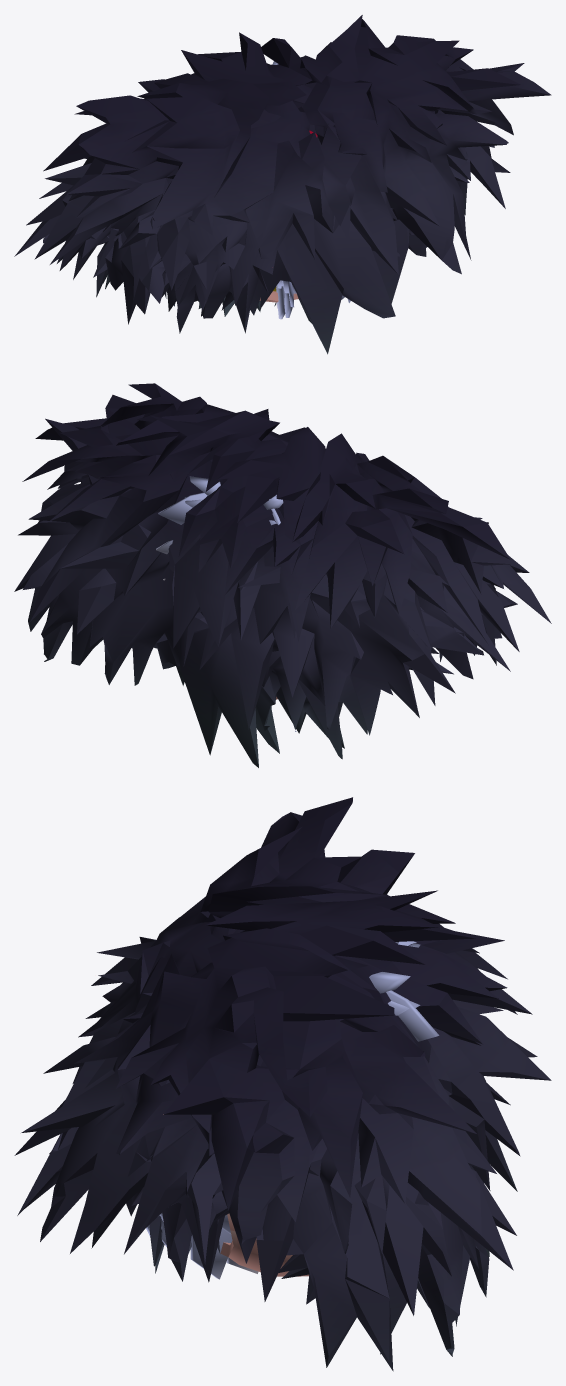
Rendered from ObbyGame_Characters_shoulderAccs_.fbx.
3 views of the same model, one above another, from view 1: azimuth 30°, elevation 25°; view 2: azimuth 150°, elevation 25°; view 3: azimuth 270°, elevation 25° (orthographic). The views are drawn at different scales.
Parts seen in each view (by area): view 1: ObbyGame_Characters_shoulderAcc_001, ObbyGame_Characters_shoulderAcc_002_left; view 2: ObbyGame_Characters_shoulderAcc_001, ObbyGame_Characters_shoulderAcc_002_left; view 3: ObbyGame_Characters_shoulderAcc_001, ObbyGame_Characters_shoulderAcc_002_left, ObbyGame_Characters_shoulderAcc_002_right, ObbyGame_Characters_shoulderAcc_000_right.
Part boxes in pixels (box(x1,y1,x2,y2)): ObbyGame_Characters_shoulderAcc_001: box(14, 15, 551, 354); ObbyGame_Characters_shoulderAcc_002_left: box(272, 61, 296, 319); ObbyGame_Characters_shoulderAcc_001: box(14, 383, 551, 767); ObbyGame_Characters_shoulderAcc_002_left: box(156, 476, 220, 580); ObbyGame_Characters_shoulderAcc_001: box(14, 797, 551, 1371); ObbyGame_Characters_shoulderAcc_002_left: box(369, 972, 439, 1041); ObbyGame_Characters_shoulderAcc_002_right: box(146, 941, 420, 1279); ObbyGame_Characters_shoulderAcc_000_right: box(220, 1213, 308, 1276).
Bounding box in the file's own units: 441 × 235 × 275.
2 materials, 2 textured.
